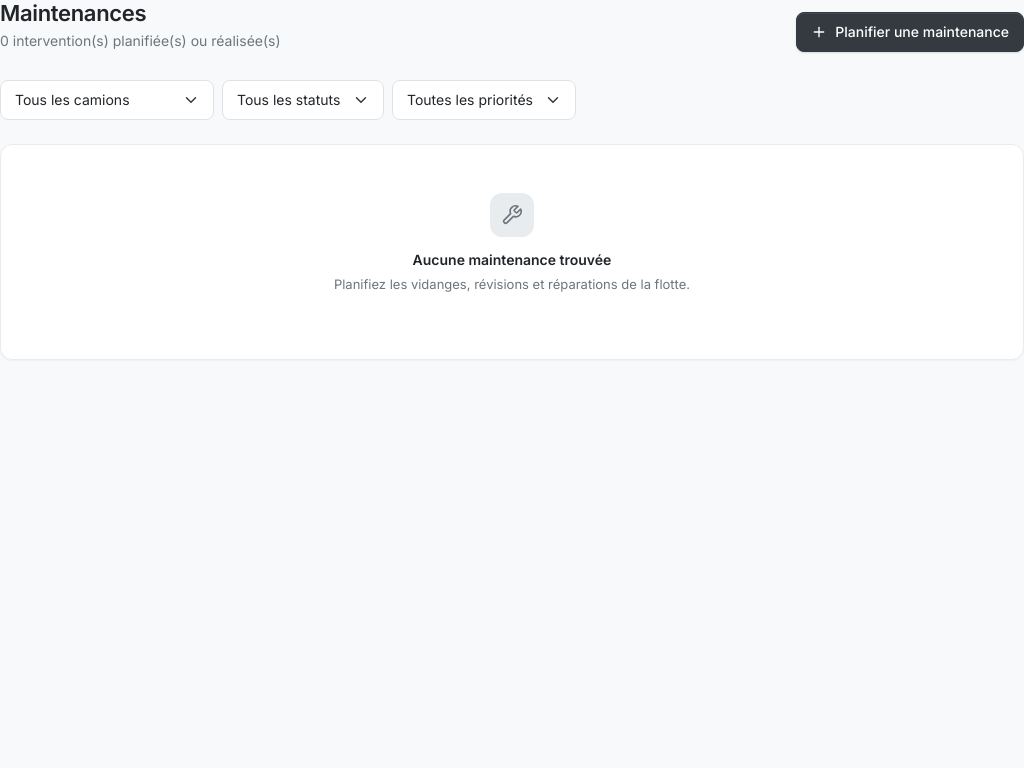
Test: Maintenances › la saisie au clavier garde le focus et tout le texte tapé
Step 1. Click the button "Planifier une maintenance" → (910, 32), box [796,12,1023,52]
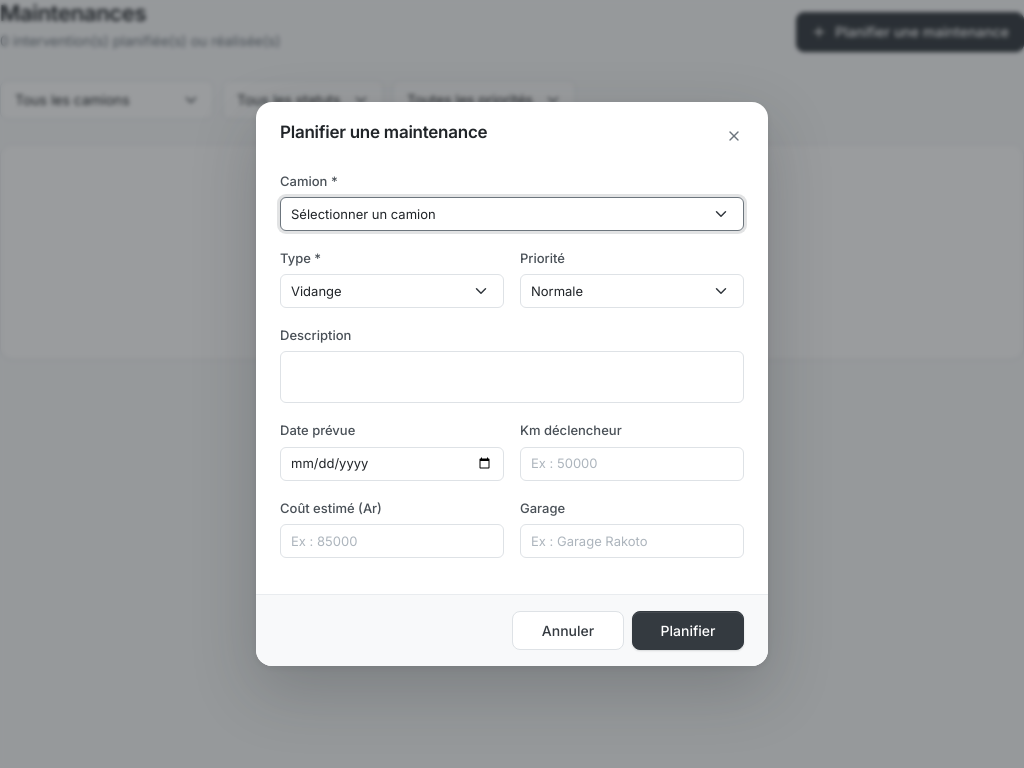
Step 2. Click the field with placeholder "Ex : Garage Rakoto" → (632, 541), box [520,524,744,558]
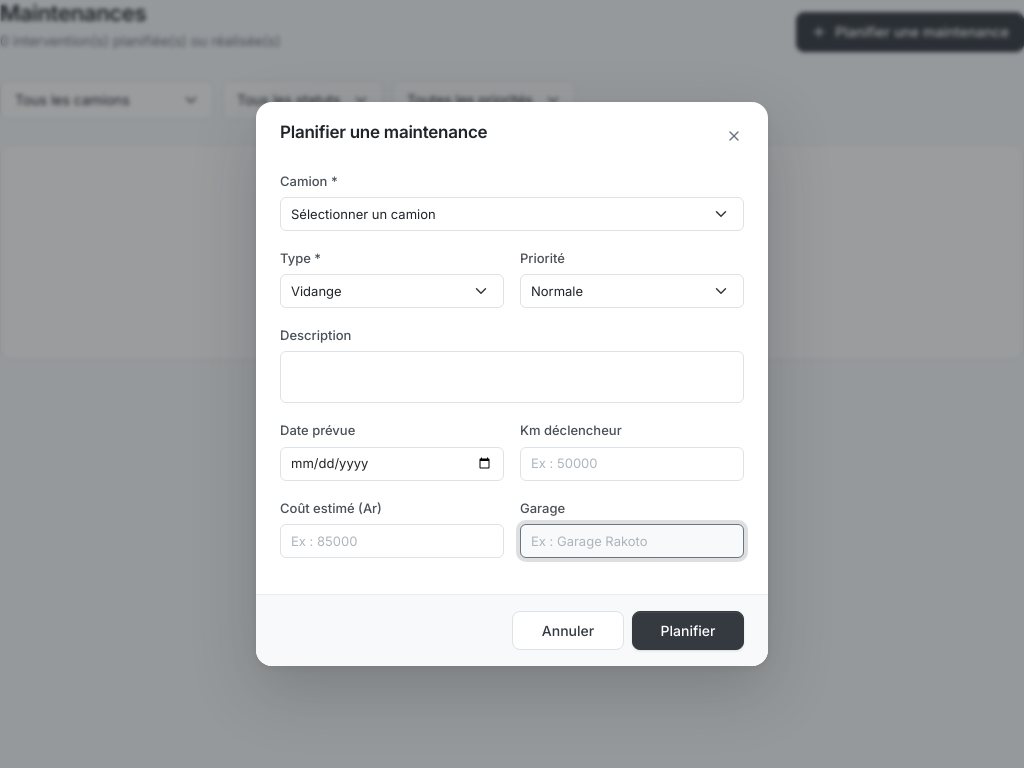
Step 3. Type keys "Garage Rabe"
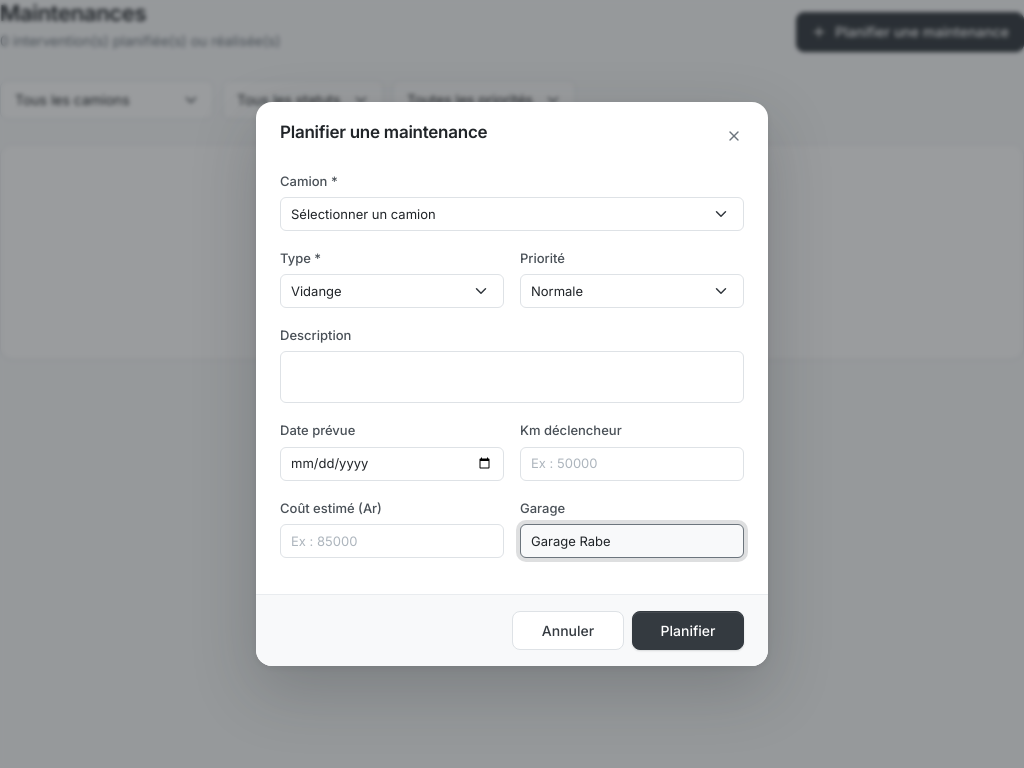
Expected: the field with placeholder "Ex : Garage Rakoto" holds "Garage Rabe", [520,524,744,558]
